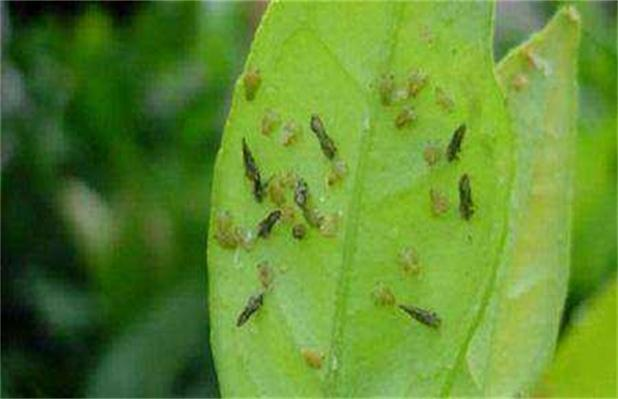thrips: (239, 138, 265, 204), (309, 116, 338, 160), (234, 290, 263, 329), (401, 304, 441, 329), (253, 207, 282, 240), (458, 174, 478, 221), (445, 120, 466, 164)
